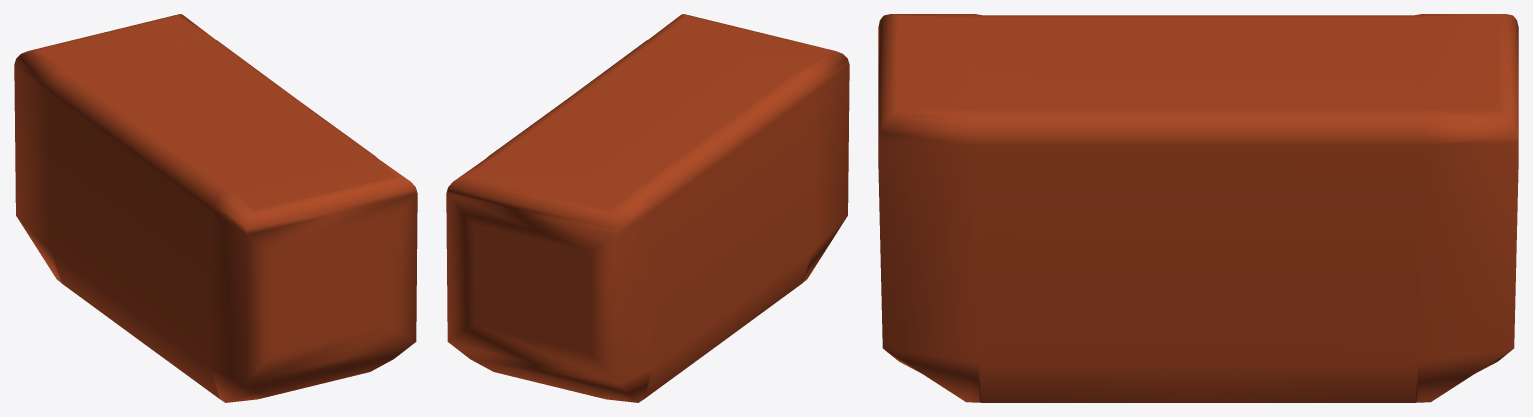
Rendered from Arena_05.fbx.
The picture shows the model from 3 angles, left to right: view 1: azimuth 30°, elevation 25°; view 2: azimuth 150°, elevation 25°; view 3: azimuth 270°, elevation 25°; orthographic projection. The views are drawn at different scales.
Visible parts, largest first — view 1: Geo_ArenaWalls; view 2: Geo_ArenaWalls; view 3: Geo_ArenaWalls.
Part boxes in pixels (left/top/right/bottom): Geo_ArenaWalls: left=14, top=14, right=417, bottom=402; Geo_ArenaWalls: left=446, top=14, right=849, bottom=402; Geo_ArenaWalls: left=878, top=14, right=1518, bottom=402.
Bounding box in the file's own units: 7557 × 8889 × 17837.
